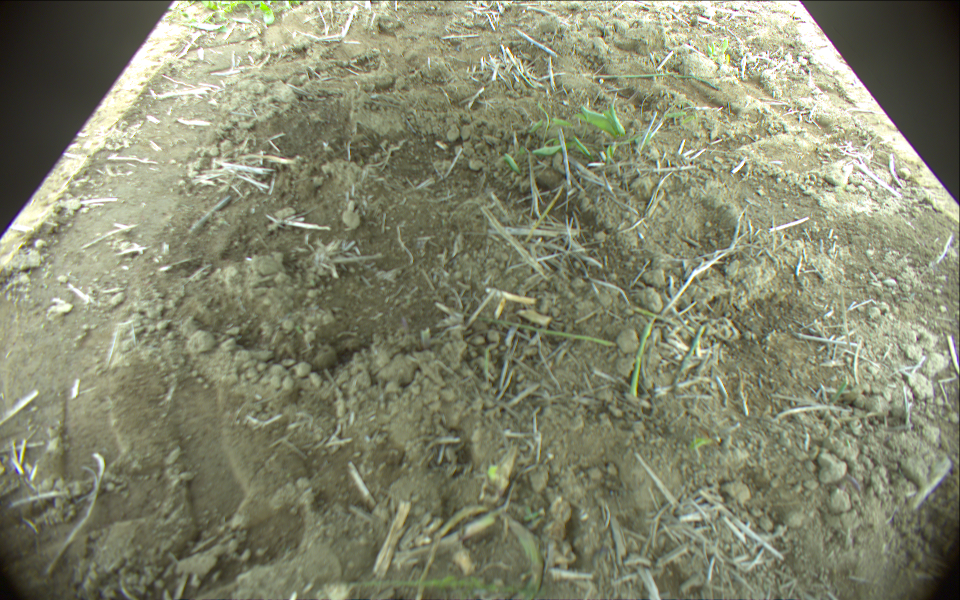aspa: (450, 305, 618, 348), (628, 313, 658, 395)
